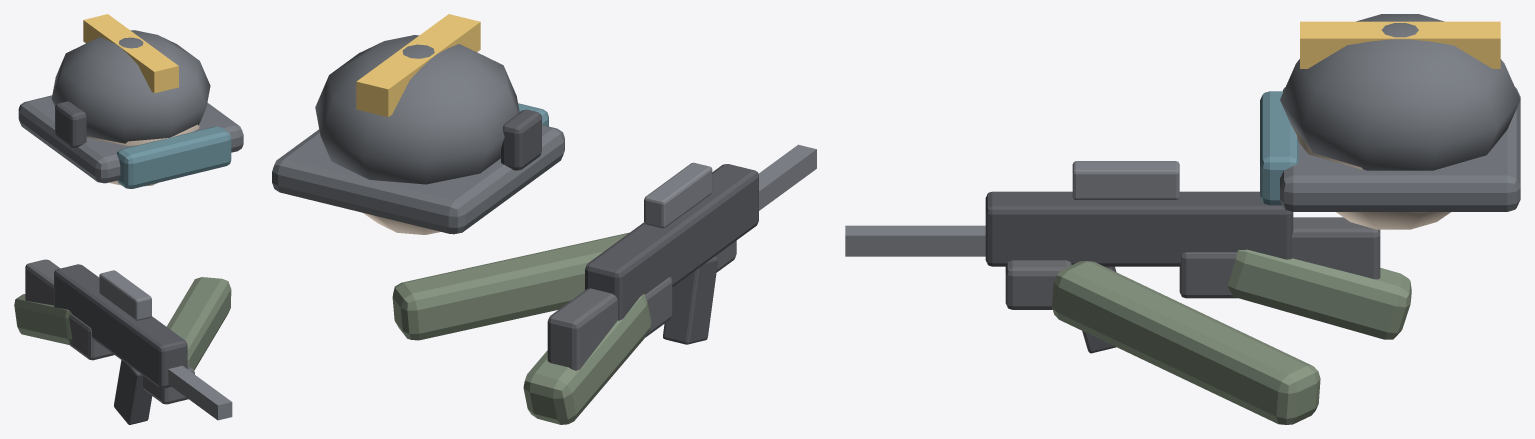
Rendered from player_head.fbx.
3 views of the same model, side by side, from view 1: azimuth 30°, elevation 25°; view 2: azimuth 150°, elevation 25°; view 3: azimuth 270°, elevation 25° (orthographic). The views are drawn at different scales.
Visible parts, largest first — view 1: player_head; view 2: player_head; view 3: player_head.
Boxes of the visible parts, <box> form: player_head: <box>14,14,243,424</box>; player_head: <box>272,14,816,424</box>; player_head: <box>845,14,1520,424</box>.
Size of the model in its own units: 0.4744 by 0.6454 by 1.01.
